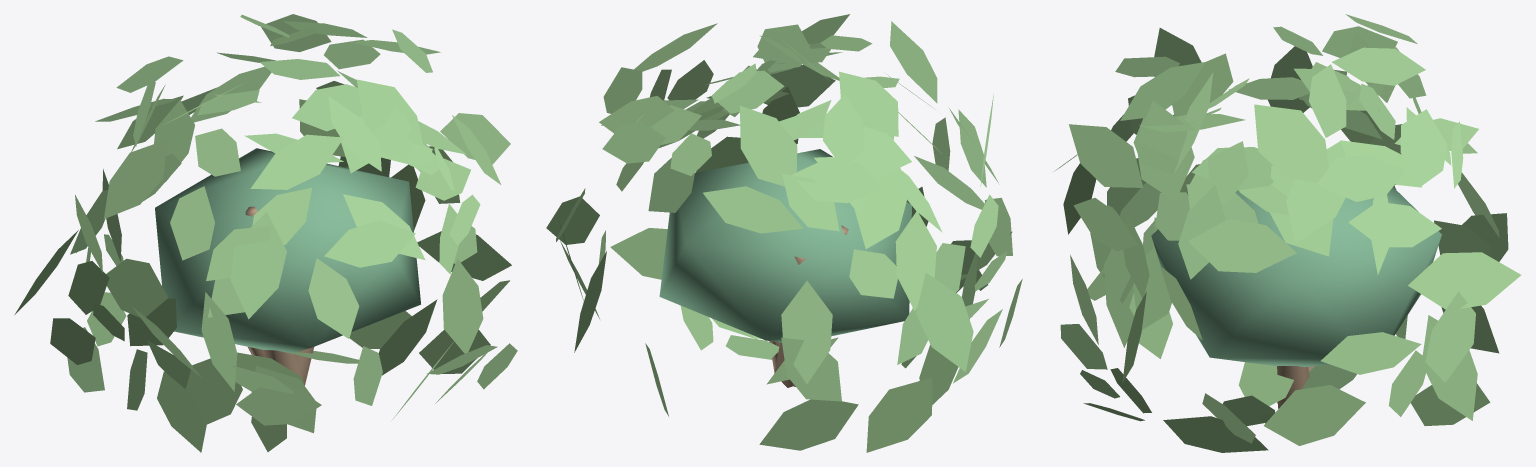
File: bush_B.glb
3 renders of one model, left to right at view 1: azimuth 30°, elevation 25°; view 2: azimuth 150°, elevation 25°; view 3: azimuth 270°, elevation 25°, orthographic. The views are drawn at different scales.
Visible parts, largest first — view 1: bush_B; view 2: bush_B; view 3: bush_B.
Boxes of the visible parts, x1,y1,x2,y2 form: bush_B: [14, 14, 517, 452]; bush_B: [546, 14, 1022, 452]; bush_B: [1054, 14, 1521, 452].
Bounding box in the file's own units: 0.6964 × 0.5276 × 0.6127.
